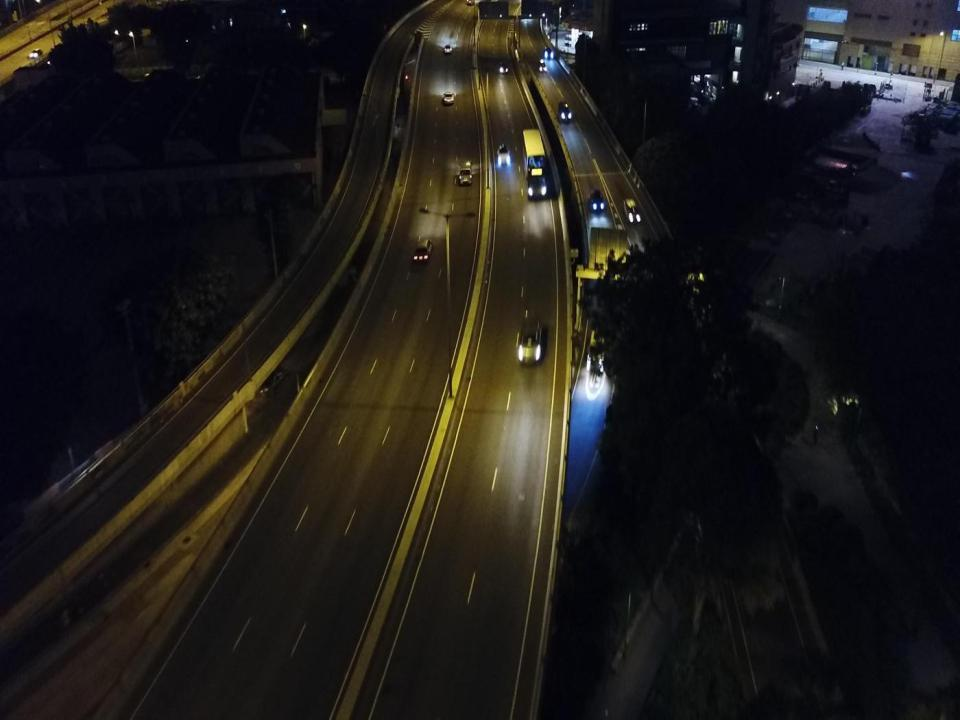bus: (522, 130, 548, 199)
car: (518, 314, 542, 364), (258, 366, 290, 394), (412, 238, 433, 264), (624, 199, 640, 224), (591, 189, 604, 212), (497, 144, 510, 164), (443, 92, 454, 104), (30, 48, 43, 58), (500, 62, 508, 73), (444, 44, 452, 54)
truck: (564, 31, 584, 48)
van: (587, 322, 608, 376), (459, 160, 473, 185), (558, 102, 572, 122), (543, 46, 553, 59), (538, 57, 546, 72)
